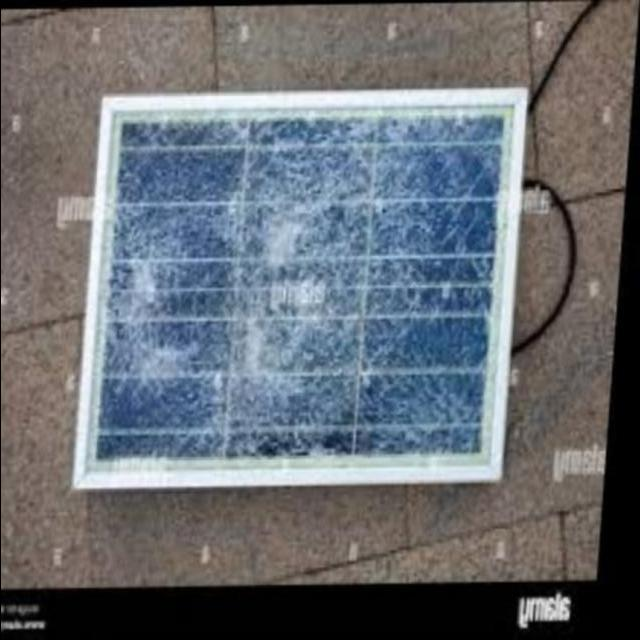cracked: (73, 82, 526, 492)
